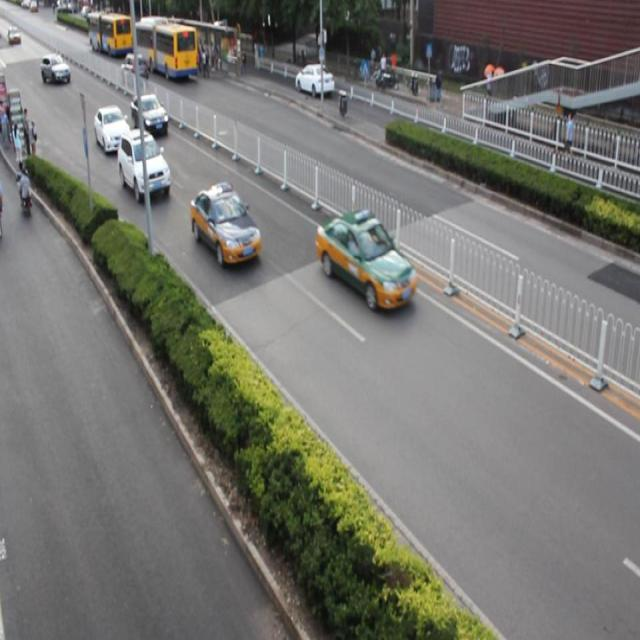car: (316, 205, 414, 311), (189, 182, 260, 266), (119, 132, 172, 202), (130, 93, 168, 140), (94, 106, 128, 156), (295, 62, 334, 98), (121, 51, 147, 88)
van: (134, 17, 197, 82)
